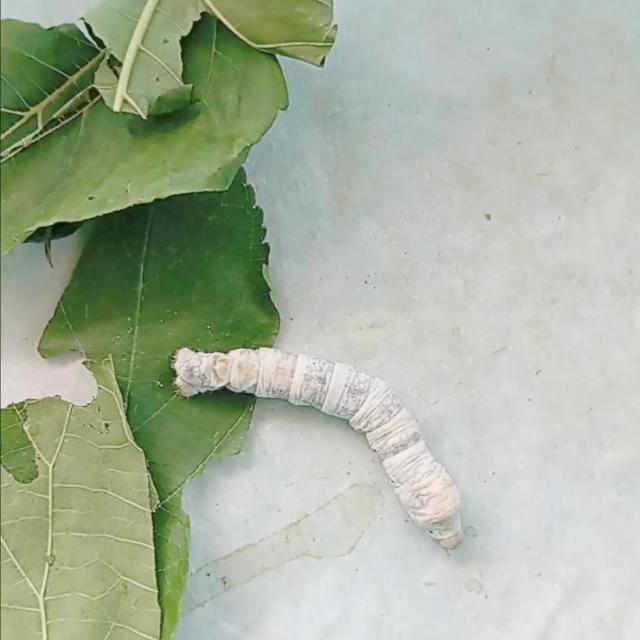Grasserie: (164, 326, 476, 554)
